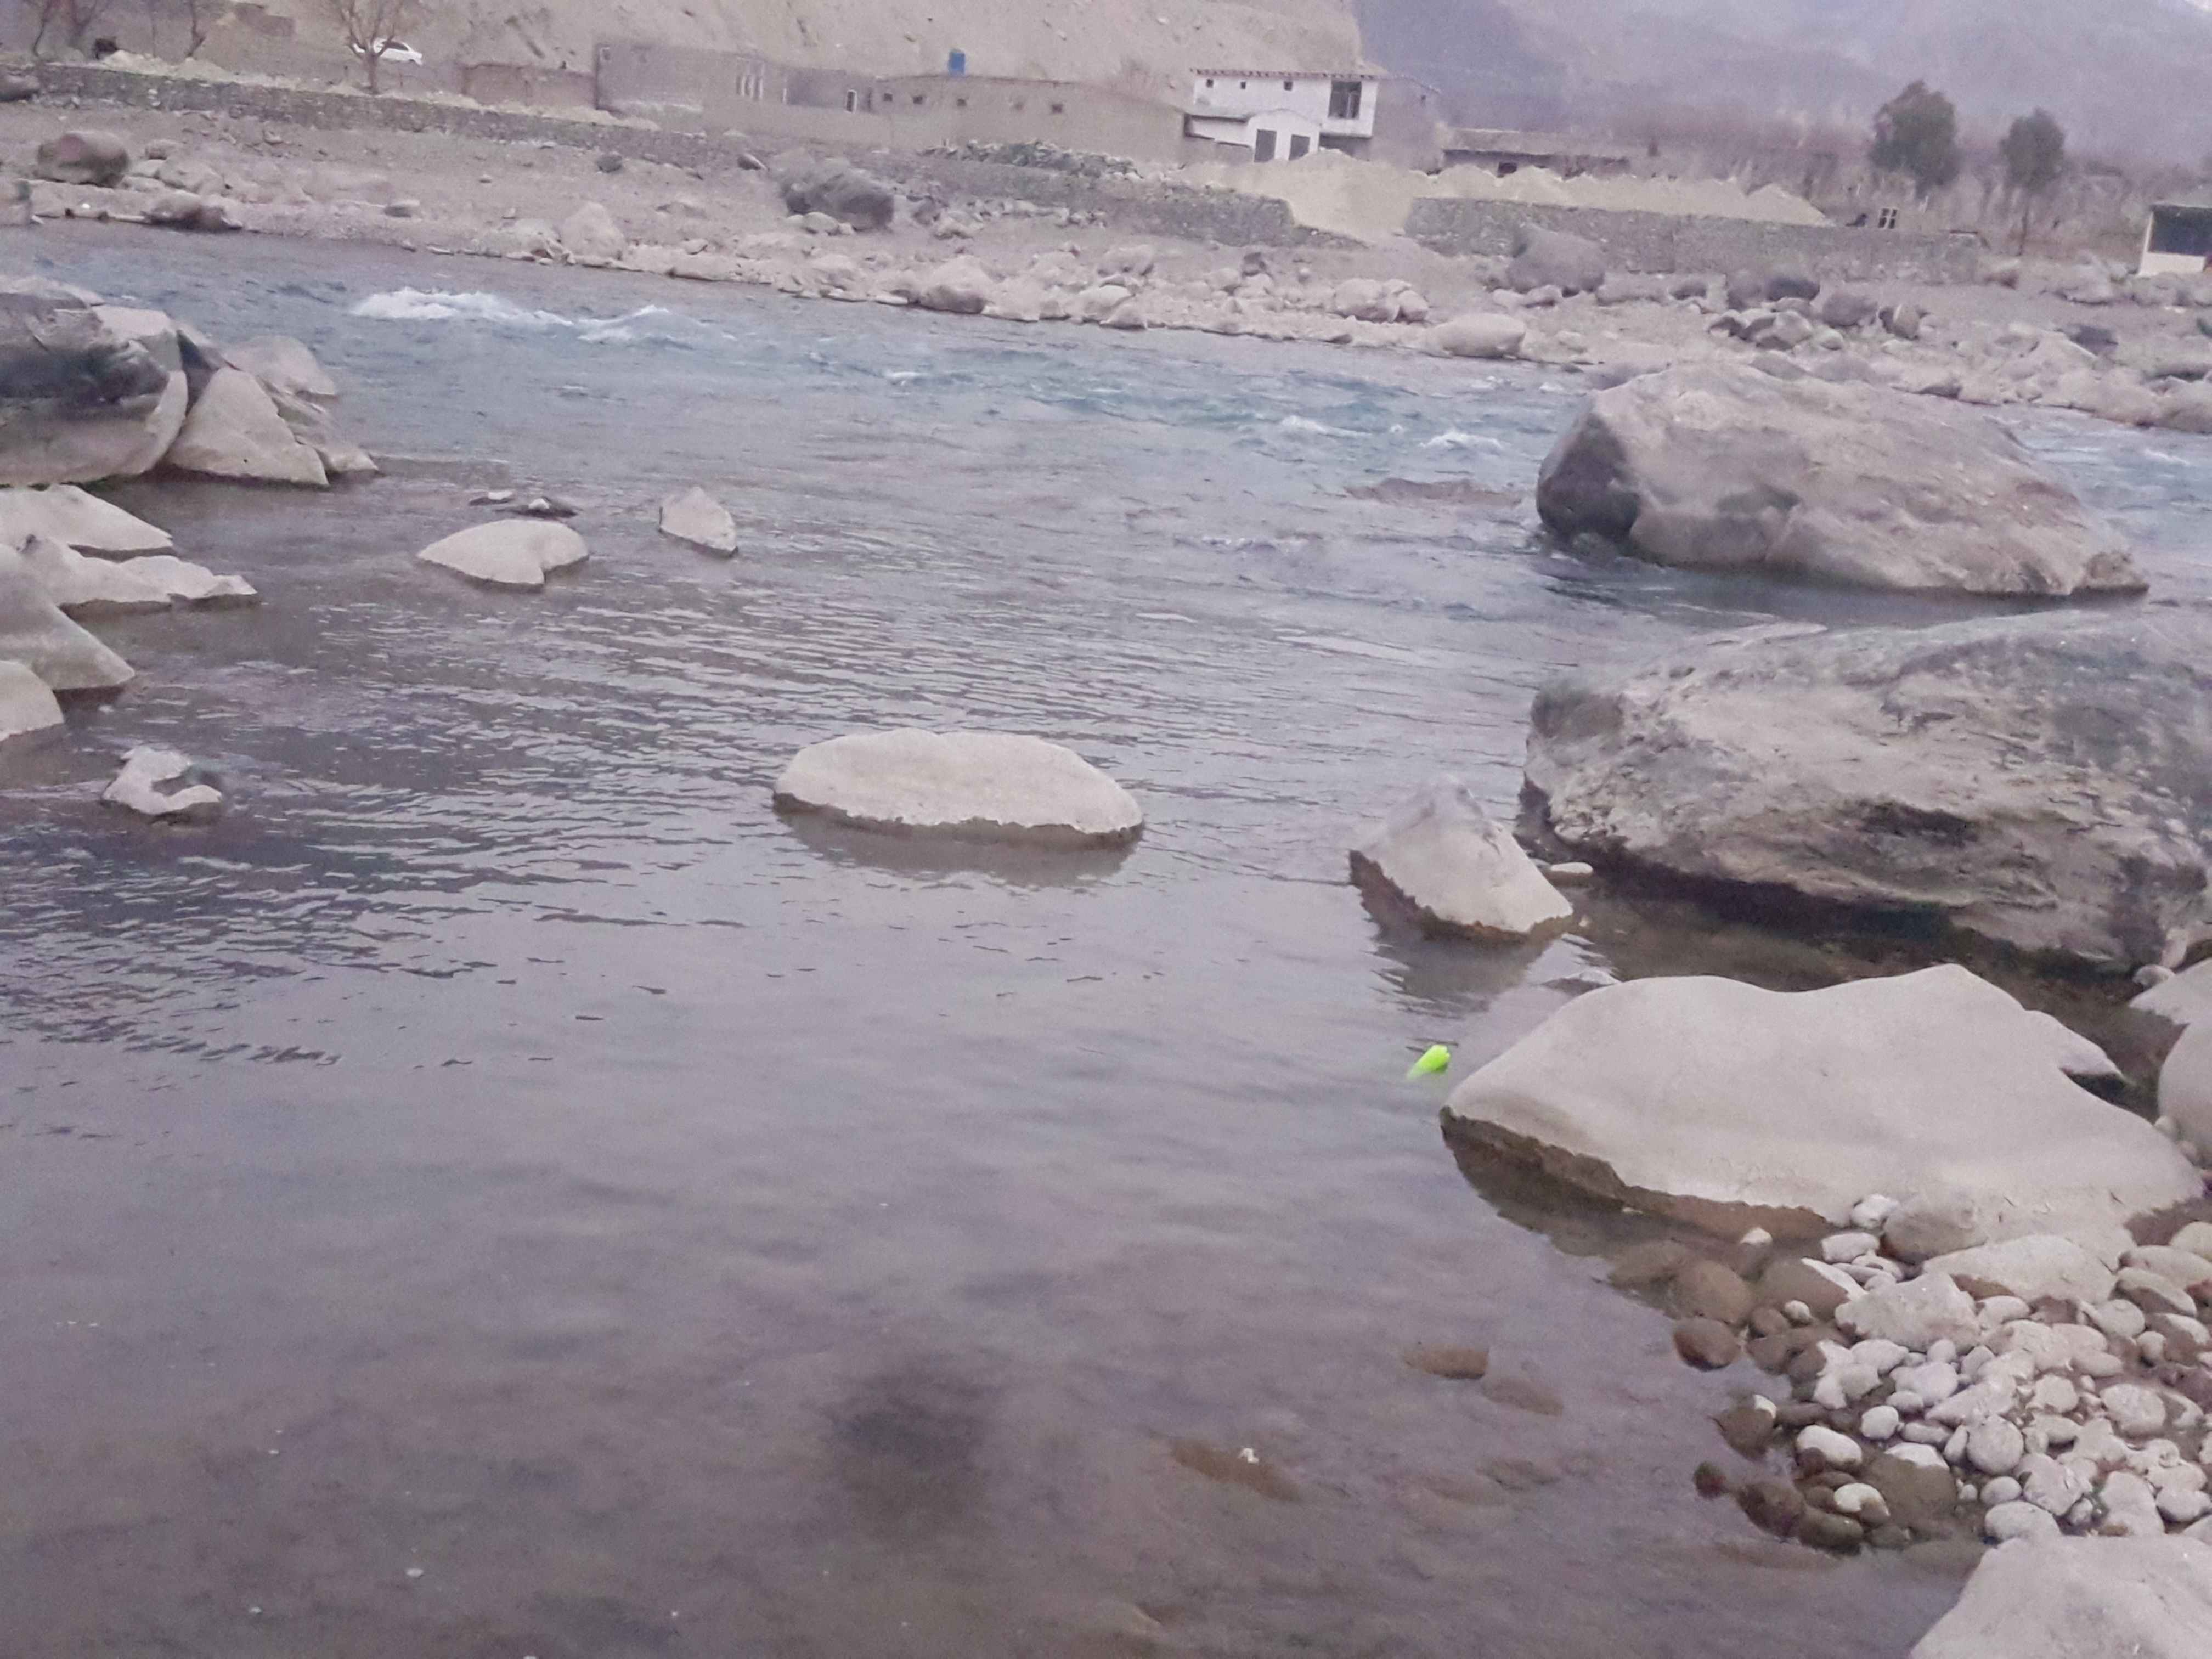Plastic Bottle: (1414, 1044, 1451, 1070)
